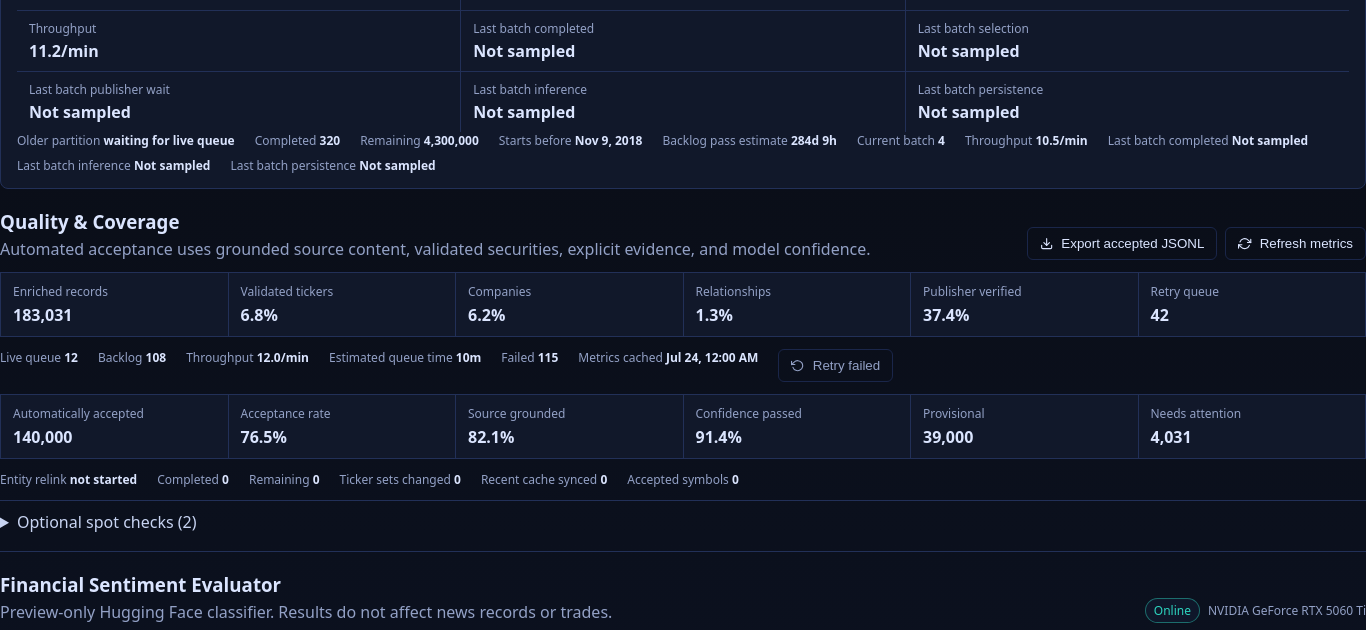
it: NewsLlm › replays failed records from the worker status control
(page scrolled)
Click the button "Retry failed". click: x=836, y=366
box: [778,349,893,382]
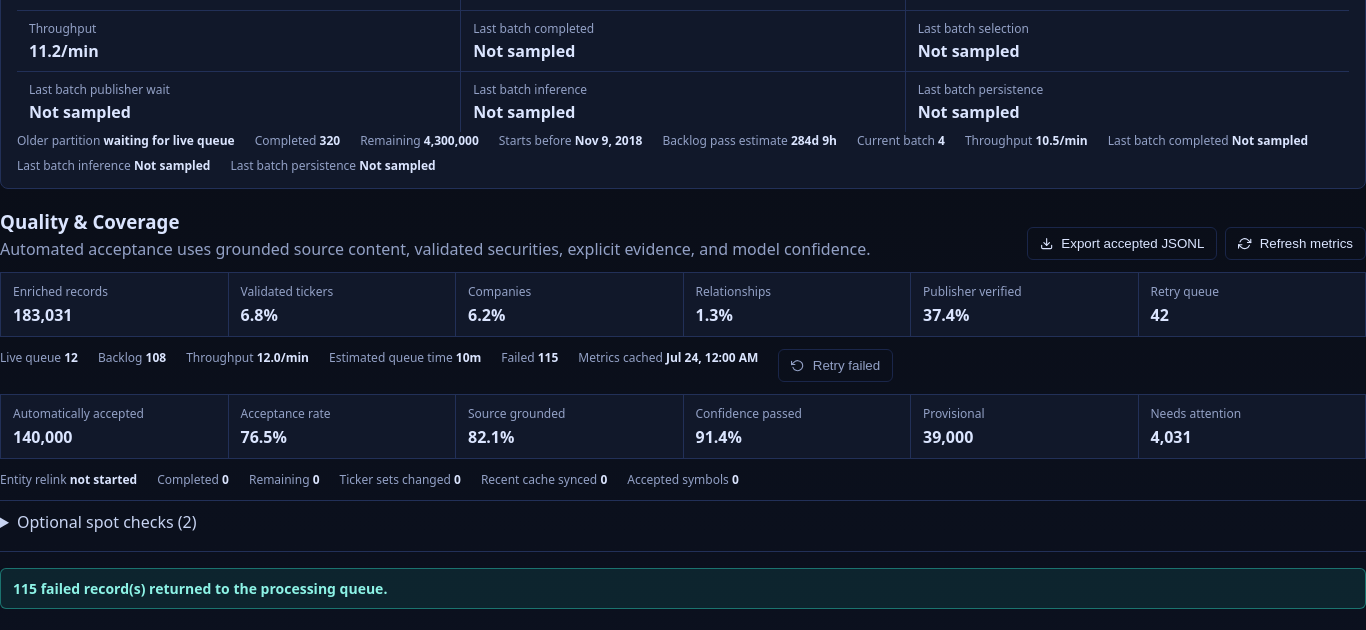
Check: the text "115 failed record(s) returned to the processing queue." is shown, box [0,568,1365,609]
